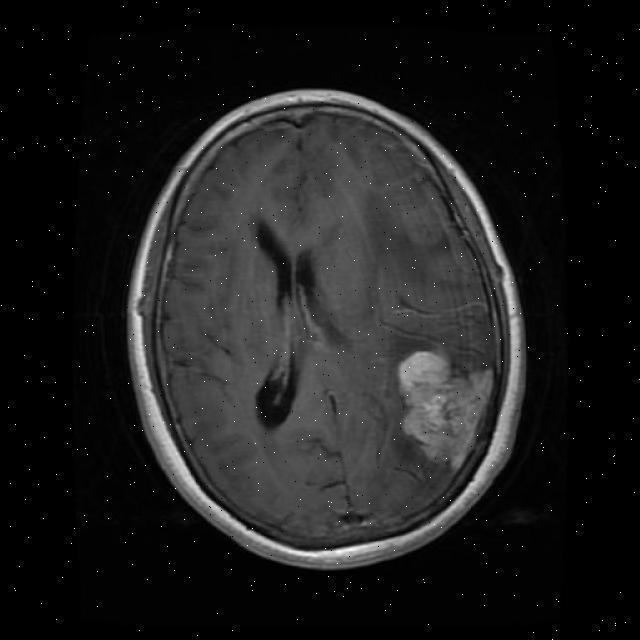Meningioma: (400, 352, 491, 470)
